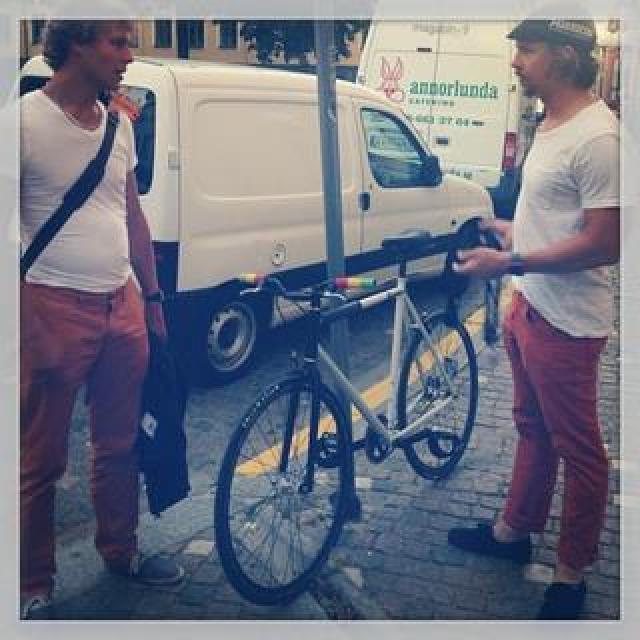MC-Bike: (452, 12, 622, 606), (18, 32, 166, 590)
Person: (202, 225, 498, 597)
Person-Bike: (100, 62, 496, 304)
